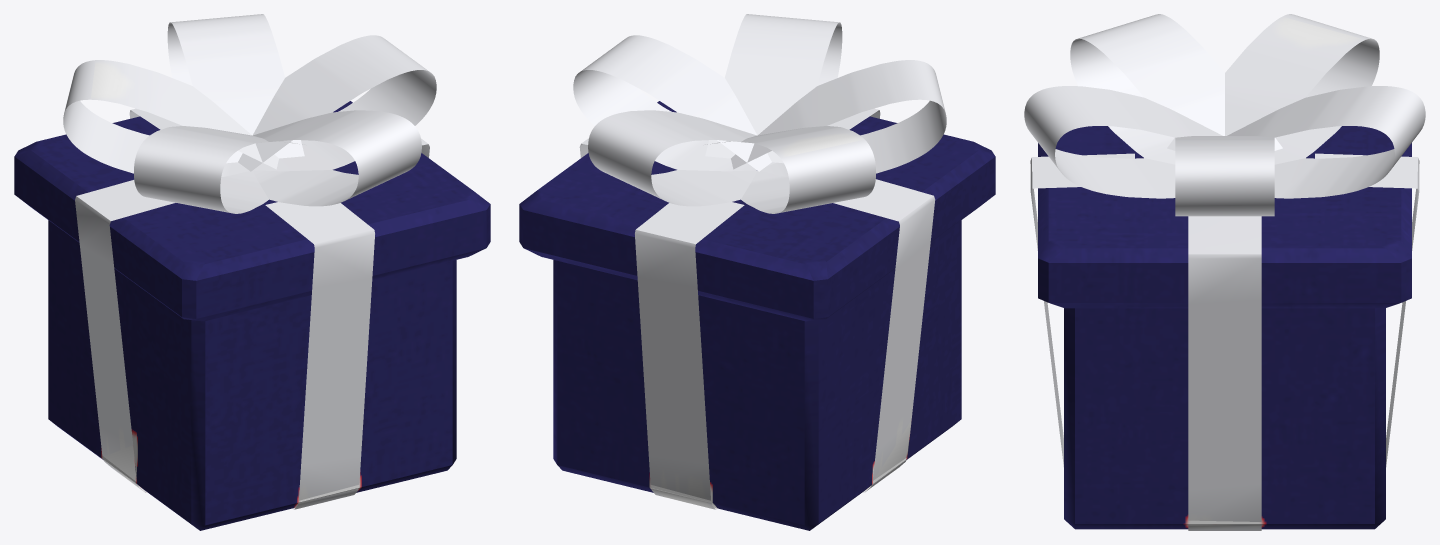
The model's file is bluePresent.gltf.
The picture shows the model from 3 angles, left to right: view 1: azimuth 30°, elevation 25°; view 2: azimuth 150°, elevation 25°; view 3: azimuth 270°, elevation 25°; orthographic projection. The views are drawn at different scales.
Parts seen in each view (by area): view 1: Polygon_Reduction; view 2: Polygon_Reduction; view 3: Polygon_Reduction.
Part boxes in pixels (x1,y1,x2,y2): Polygon_Reduction: (14,14,490,530); Polygon_Reduction: (519,14,995,530); Polygon_Reduction: (1024,14,1425,530).
Bounding box in the file's own units: 1.31 × 1.42 × 1.35.
Materials: 1 (1 with a texture image).
